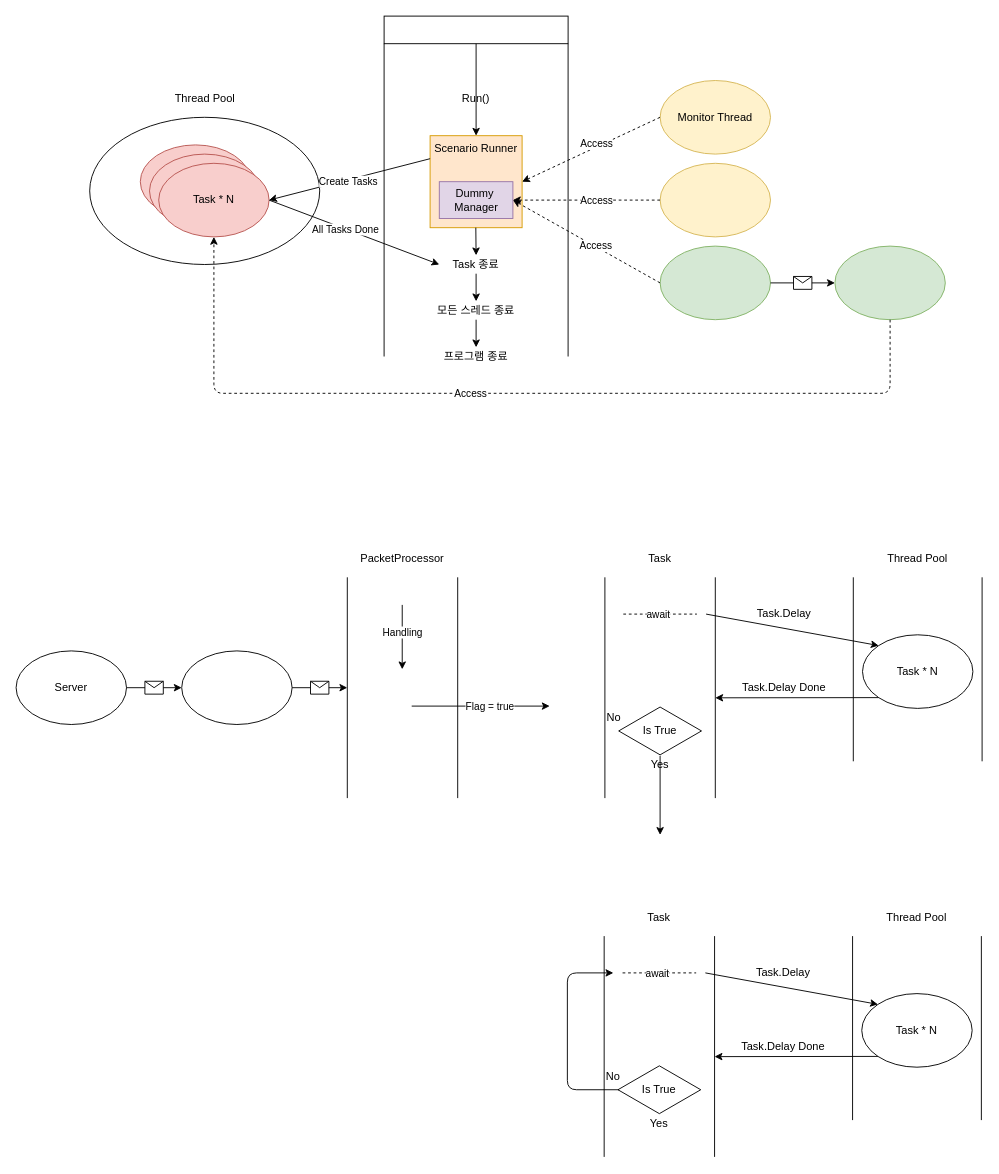
The diagram is 999 pixels wide and 1174 high, and some of its shapes have lost their labels. Here are the shapes that lost their labels. From the top down, the centre of each, then its label:
pixel 475 29: Main Thread
pixel 714 199: ActionTimeChecker Thread
pixel 714 282: Receiver Thread
pixel 889 282: PackerProcessor Thread
pixel 236 687: Receiver
